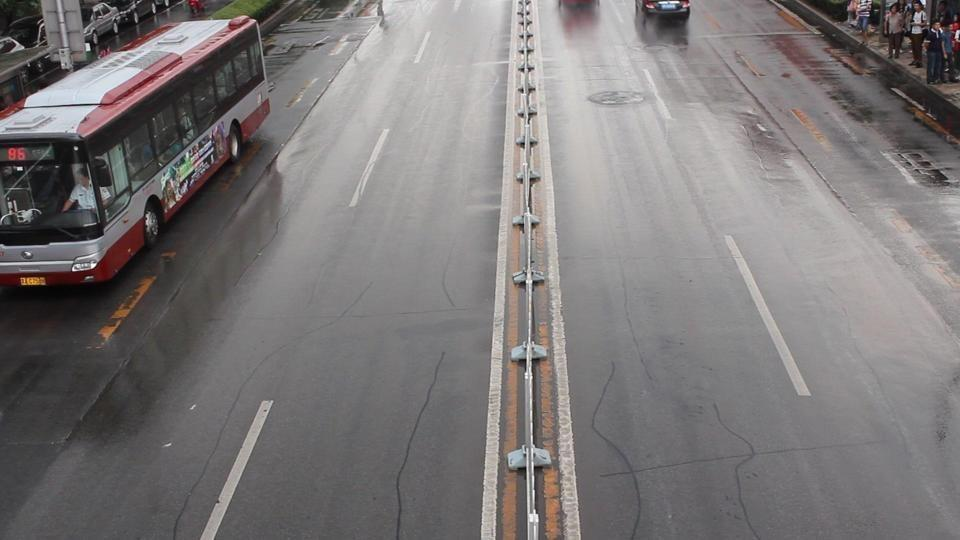car: (640, 0, 691, 18)
